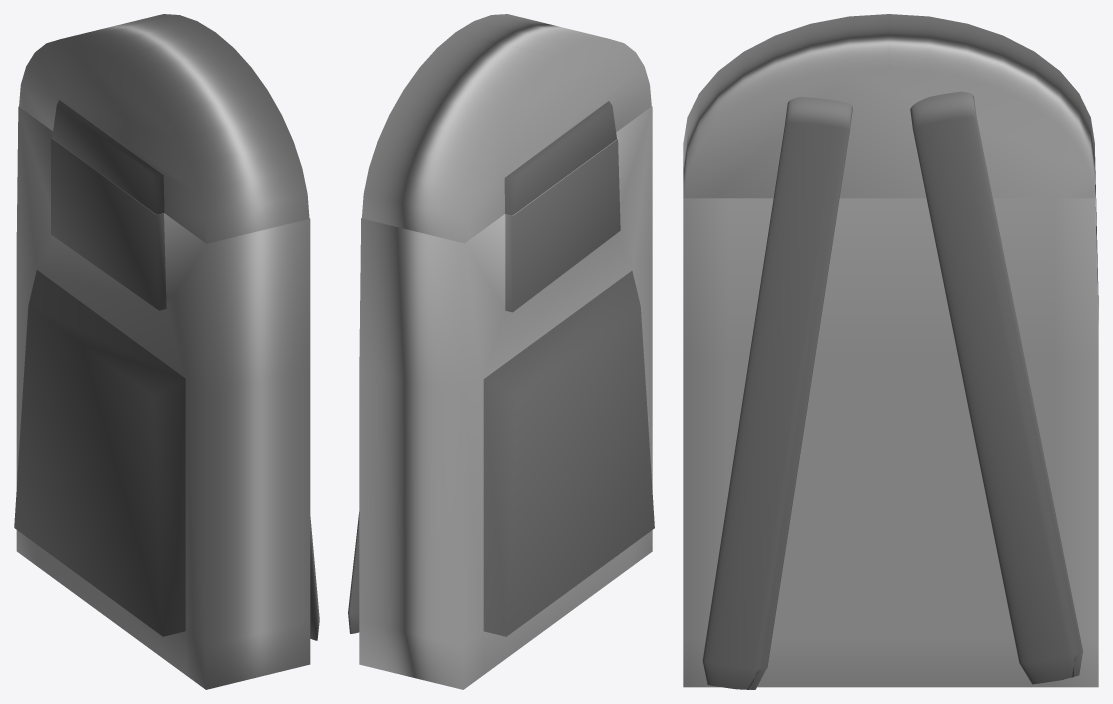
The model's file is bag.glb.
3 renders of one model, left to right at view 1: azimuth 30°, elevation 25°; view 2: azimuth 150°, elevation 25°; view 3: azimuth 270°, elevation 25°, orthographic. The views are drawn at different scales.
Parts seen in each view (by area): view 1: Cube; view 2: Cube; view 3: Cube.
Part boxes in pixels (bbox=[...]): Cube: bbox=[14, 14, 319, 689]; Cube: bbox=[348, 14, 654, 689]; Cube: bbox=[683, 14, 1098, 689].
Bounding box in the file's own units: 0.4158 × 1.5 × 0.9118.
1 material, 1 textured.
